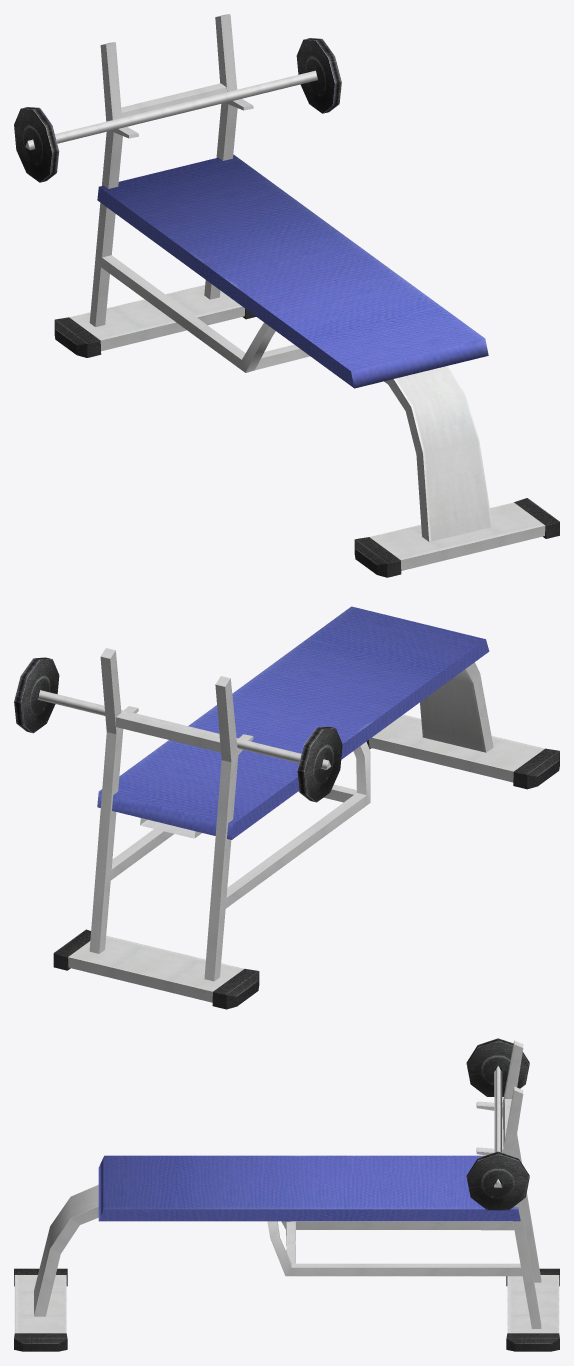
The model's file is M_Home_Garden_Fitnes05.fbx.
The picture shows the model from 3 angles, top to bottom: view 1: azimuth 30°, elevation 25°; view 2: azimuth 150°, elevation 25°; view 3: azimuth 270°, elevation 25°; orthographic projection. The views are drawn at different scales.
Visible parts, largest first — view 1: M_Home_Garden_Fitnes05; view 2: M_Home_Garden_Fitnes05; view 3: M_Home_Garden_Fitnes05.
Part boxes in pixels (x1,y1,x2,y2): M_Home_Garden_Fitnes05: (14, 14, 559, 577); M_Home_Garden_Fitnes05: (14, 606, 559, 1009); M_Home_Garden_Fitnes05: (14, 1038, 559, 1351).
Bounding box in the file's own units: 111 × 108 × 213.
